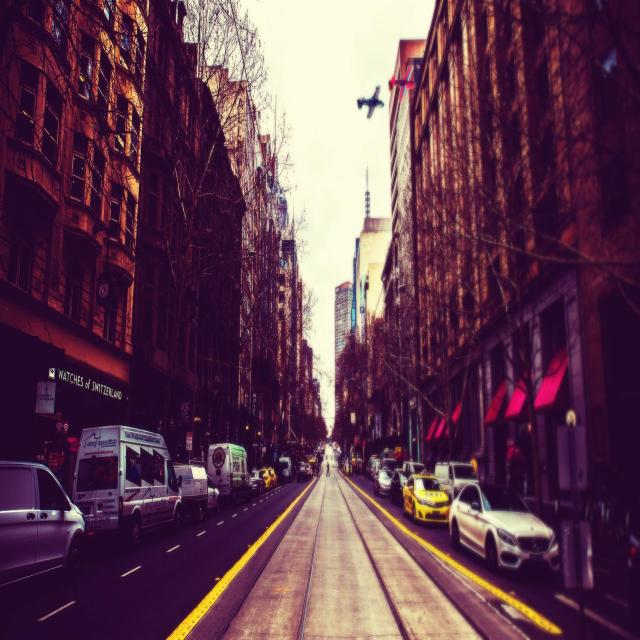airplane: (388, 66, 416, 102), (356, 85, 384, 118)
